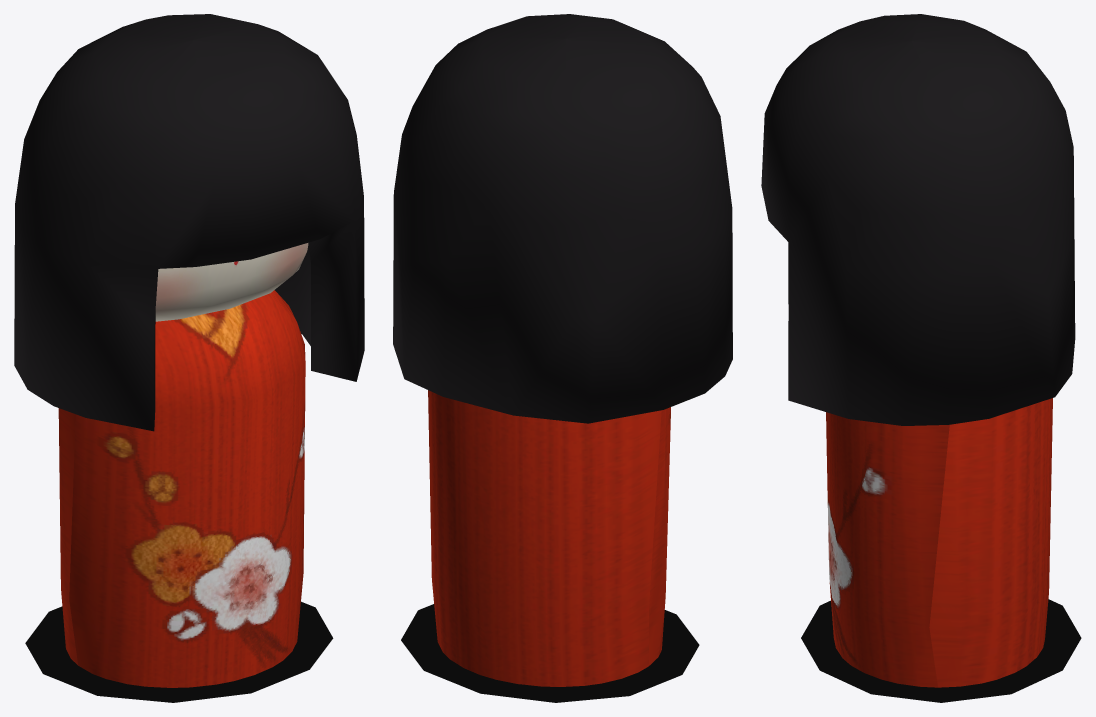
Rendered from jj_rixi_wanou01.FBX.
3 views of the same model, side by side, from view 1: azimuth 30°, elevation 25°; view 2: azimuth 150°, elevation 25°; view 3: azimuth 270°, elevation 25° (orthographic). The views are drawn at different scales.
Visible parts, largest first — view 1: jj_rixi_wanou01, Cylinder001; view 2: jj_rixi_wanou01, Cylinder001; view 3: jj_rixi_wanou01, Cylinder001.
Part boxes in pixels (x1=…): jj_rixi_wanou01: x1=14, y1=14, x2=364, y2=687; Cylinder001: x1=25, y1=601, x2=333, y2=702; jj_rixi_wanou01: x1=393, y1=14, x2=732, y2=686; Cylinder001: x1=401, y1=604, x2=699, y2=702; jj_rixi_wanou01: x1=761, y1=14, x2=1075, y2=687; Cylinder001: x1=801, y1=599, x2=1081, y2=702.
Size of the model in its own units: 42.1 by 81 by 38.8.
